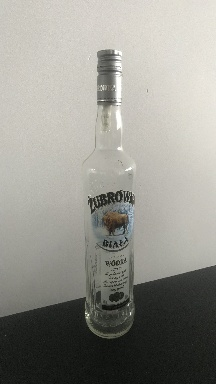butelka: (79, 45, 137, 341)
